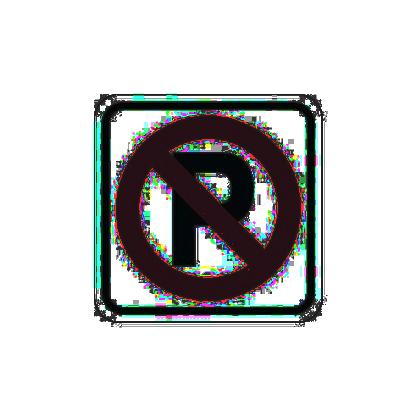No parking: (118, 115, 309, 297)
